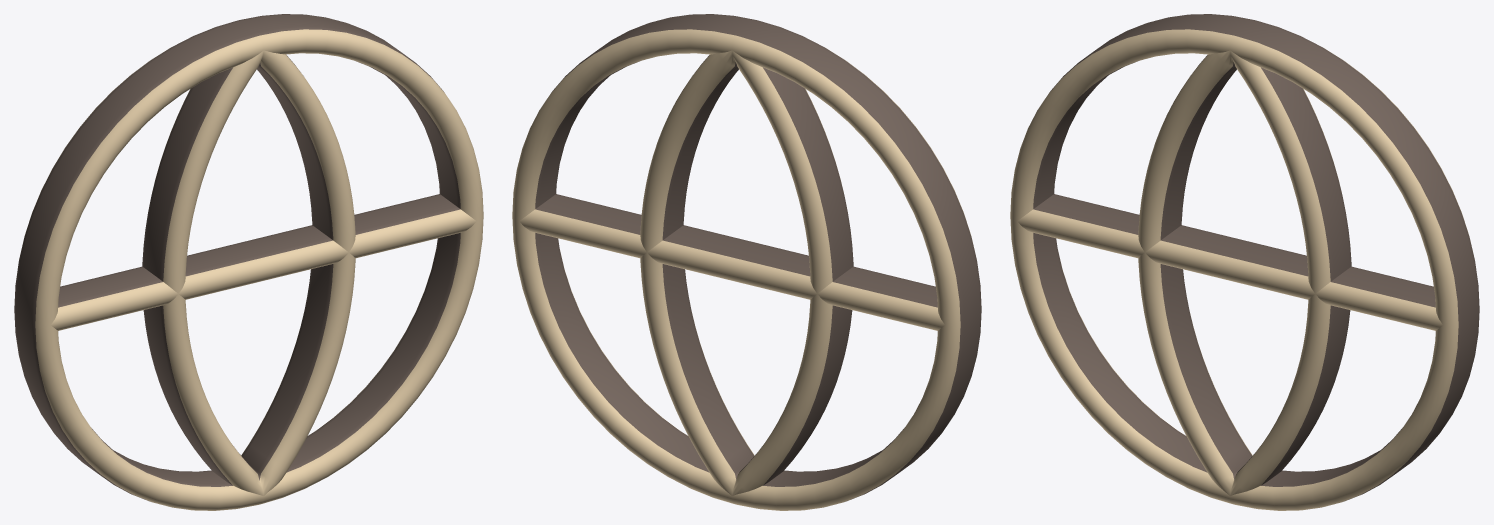
The model's file is web.glb.
The picture shows the model from 3 angles, left to right: view 1: azimuth 30°, elevation 25°; view 2: azimuth 150°, elevation 25°; view 3: azimuth 330°, elevation 25°; orthographic projection.
Visible parts, largest first — view 1: showcase_icon_web; view 2: showcase_icon_web; view 3: showcase_icon_web.
Part boxes in pixels (x1,y1,x2,y2): showcase_icon_web: (14, 14, 483, 510); showcase_icon_web: (512, 14, 981, 510); showcase_icon_web: (1010, 14, 1479, 510).
Bounding box in the file's own units: 1 × 1 × 0.114.
